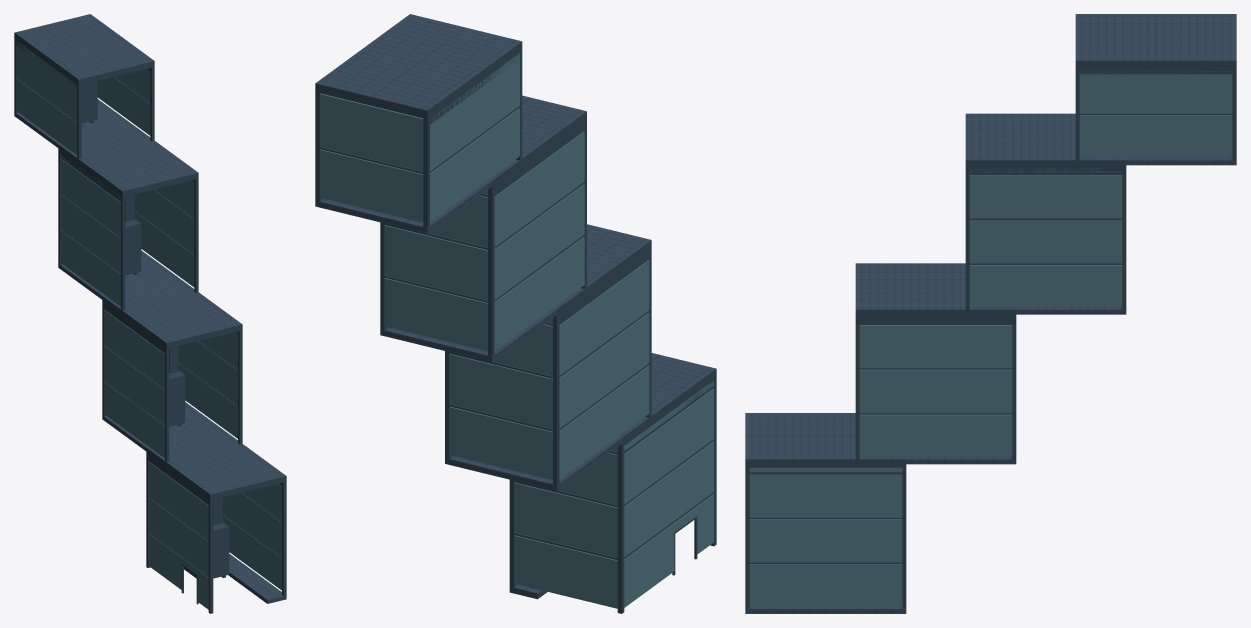
Rendered from service-tower-plant-chambers.glb.
3 views of the same model, side by side, from view 1: azimuth 30°, elevation 25°; view 2: azimuth 150°, elevation 25°; view 3: azimuth 270°, elevation 25° (orthographic). The views are drawn at different scales.
Parts seen in each view (by area): view 1: service-tower-plant-chambers; view 2: service-tower-plant-chambers; view 3: service-tower-plant-chambers.
Boxes of the visible parts, bbox=[...] form: service-tower-plant-chambers: bbox=[14, 14, 286, 613]; service-tower-plant-chambers: bbox=[315, 14, 716, 613]; service-tower-plant-chambers: bbox=[745, 14, 1236, 613].
Bounding box in the file's own units: 8 × 44.4 × 35.7.
Materials: 4 (1 with a texture image).
